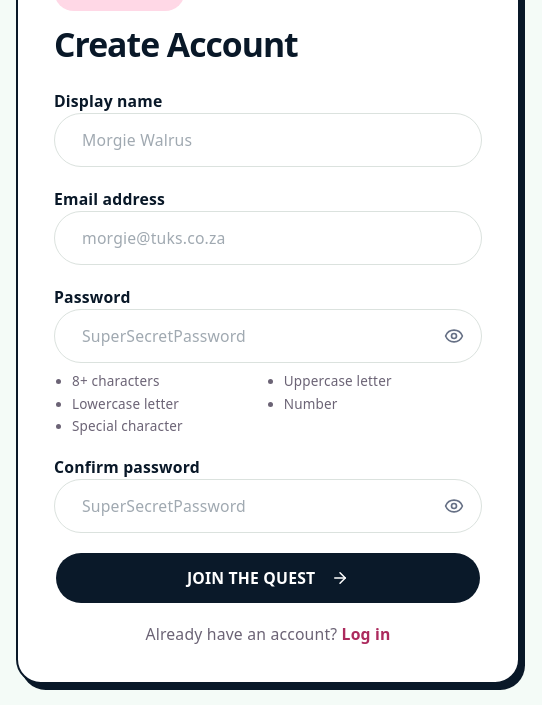
Test: RegisterPage Component › should display validation errors when fields fail Zod schema requirements
(page scrolled)
Click the button "JOIN THE QUEST".
click(268, 578)  # box [54,552,482,606]
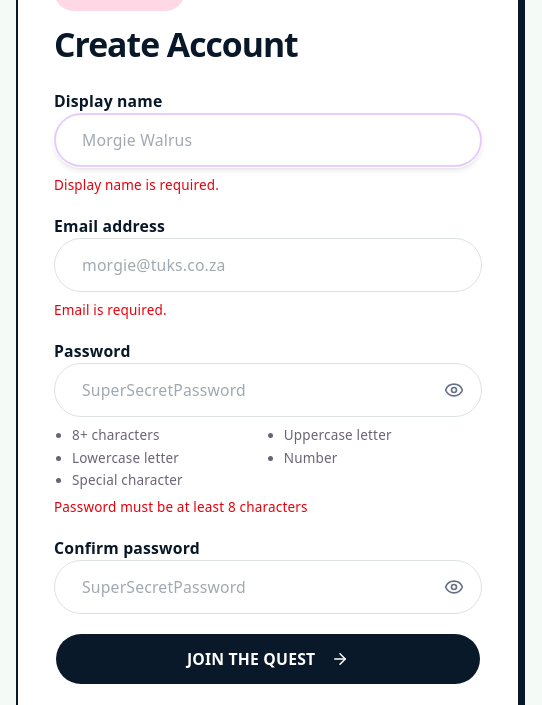
Now the text "Display name is required." is shown, box [54,176,219,194]
Now the text "Email is required." is shown, box [54,301,167,319]
